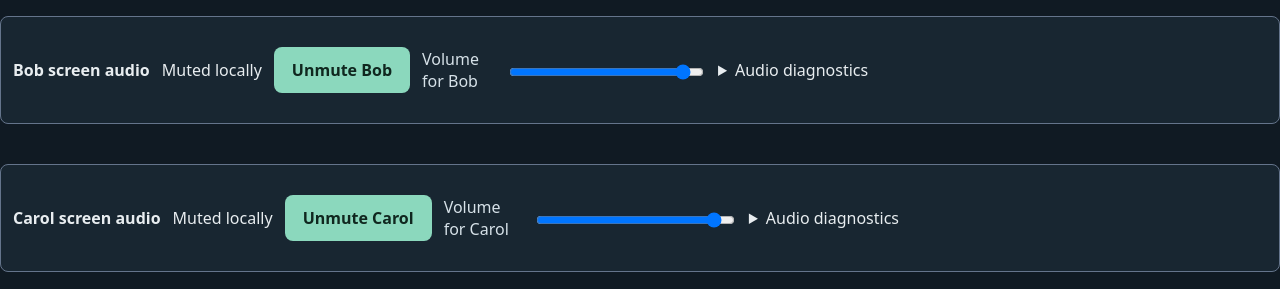
Test: multiple sources have independent volume and mute choices and default to muted
Later steps or results of the test are not shown.
Step 1. Set the slider labelled "Volume for Bob" to "23" → (558, 72), box [509,51,704,93]
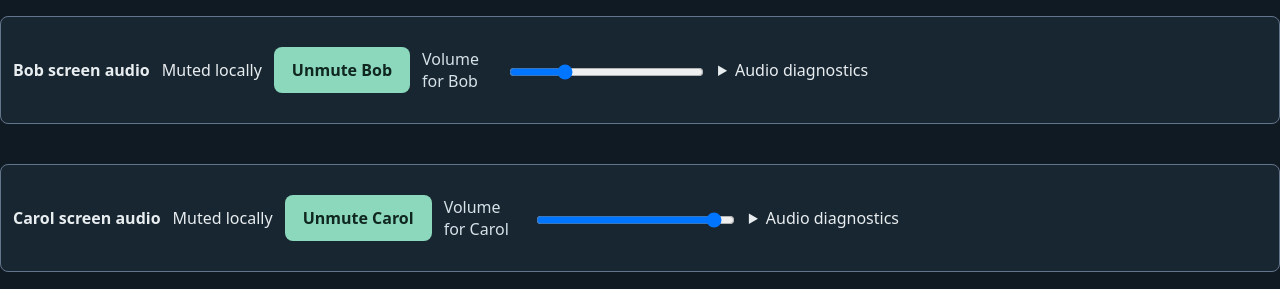
Step 2. Click the button "Unmute Bob" → (342, 70), box [274,47,410,93]
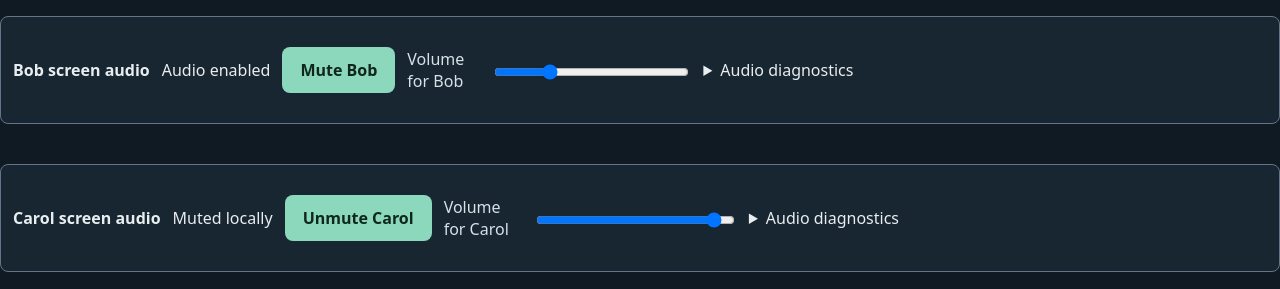
Now the text "Audio enabled" is shown, box [162,59,270,81]
